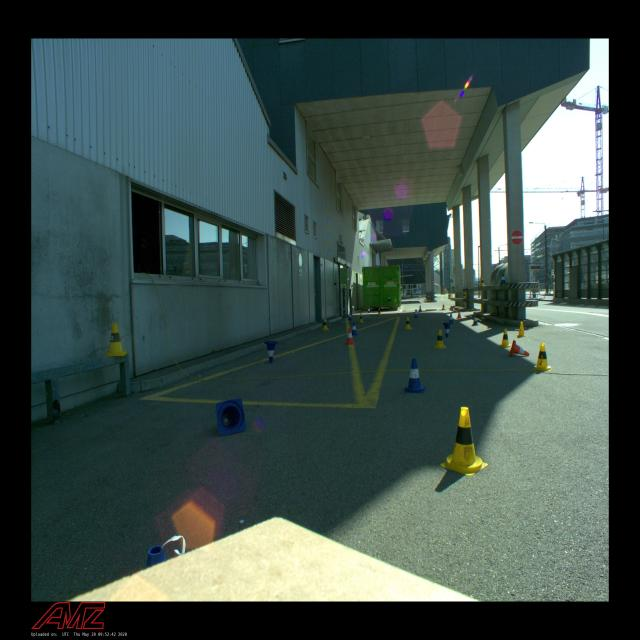blue_cone: (215, 398, 247, 436), (403, 358, 426, 393), (264, 341, 277, 363), (442, 322, 452, 338), (350, 322, 359, 335), (472, 314, 479, 326), (500, 273, 506, 284), (448, 314, 454, 324), (413, 310, 419, 318), (348, 312, 352, 320), (367, 307, 371, 313), (419, 306, 422, 312)
orange_cone: (509, 340, 529, 356), (344, 328, 356, 345), (457, 310, 462, 318)
yellow_cone: (439, 406, 488, 476), (105, 323, 128, 357), (533, 343, 551, 371), (499, 329, 512, 348), (434, 329, 446, 348), (516, 322, 527, 337), (404, 317, 412, 330), (322, 318, 329, 331), (358, 313, 364, 323), (480, 278, 486, 286), (377, 308, 382, 316), (462, 292, 467, 299), (442, 303, 446, 310)
